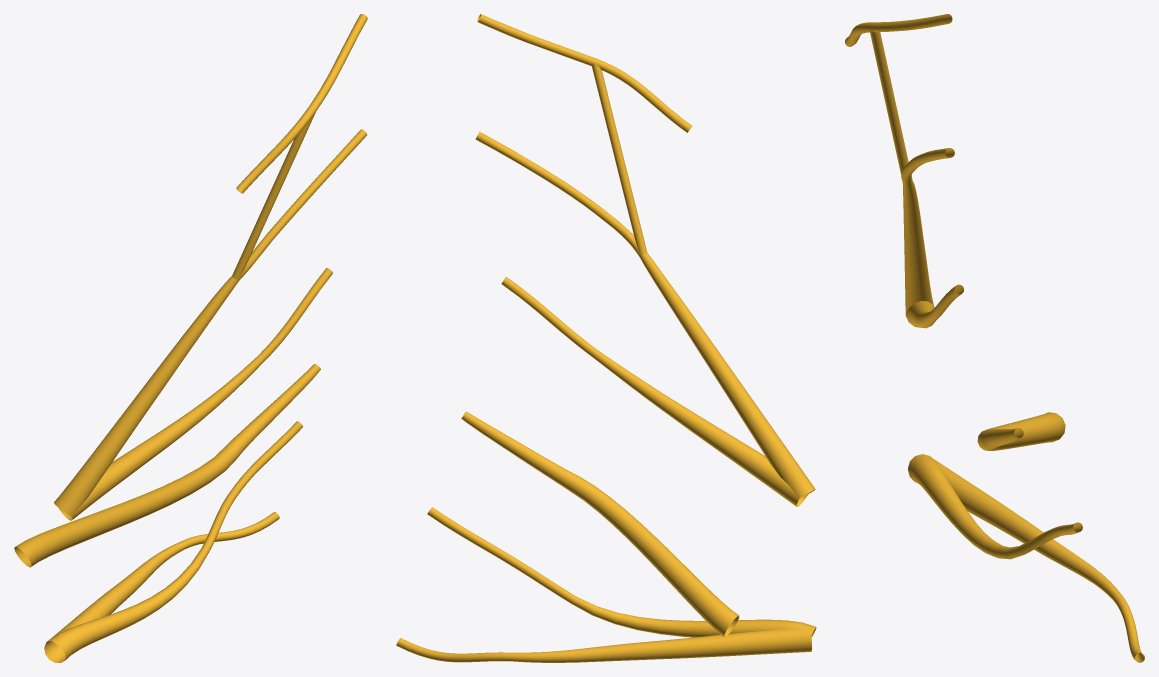
File: nervoso-roots-of-brachial-plexus-r.glb
3 views of the same model, side by side, from view 1: azimuth 30°, elevation 25°; view 2: azimuth 150°, elevation 25°; view 3: azimuth 270°, elevation 25° (orthographic). The views are drawn at different scales.
Visible parts, largest first — view 1: Roots of brachial plexus.r; view 2: Roots of brachial plexus.r; view 3: Roots of brachial plexus.r.
Boxes of the visible parts, x1,y1,x2,y2 form: Roots of brachial plexus.r: (14, 14, 367, 662); Roots of brachial plexus.r: (396, 14, 816, 662); Roots of brachial plexus.r: (845, 14, 1144, 662).
Bounding box in the file's own units: 0.0429 × 0.0717 × 0.0296.
